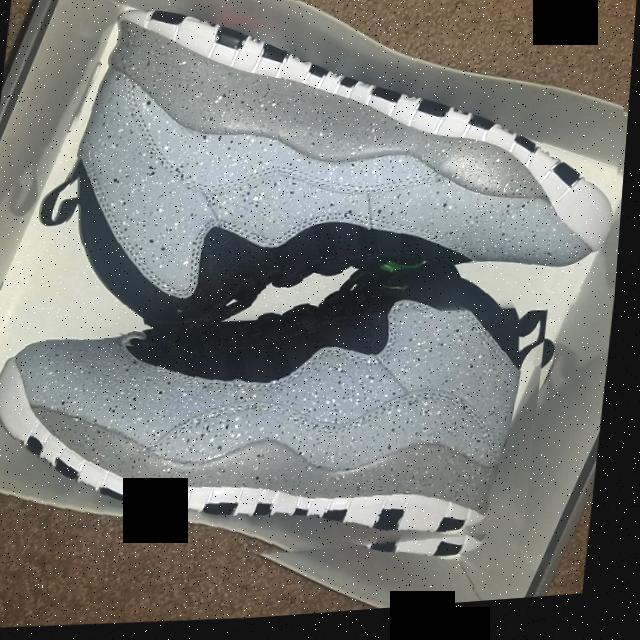shoe: (55, 0, 639, 349), (0, 243, 559, 600)
